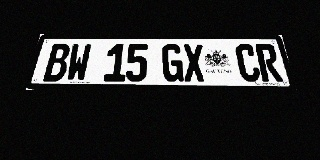1: (104, 44, 127, 82)
5: (126, 44, 148, 82)
B: (43, 44, 71, 82)
C: (234, 44, 262, 82)
G: (162, 44, 184, 82)
R: (255, 44, 284, 82)
W: (65, 44, 92, 82)
X: (183, 44, 206, 82)
